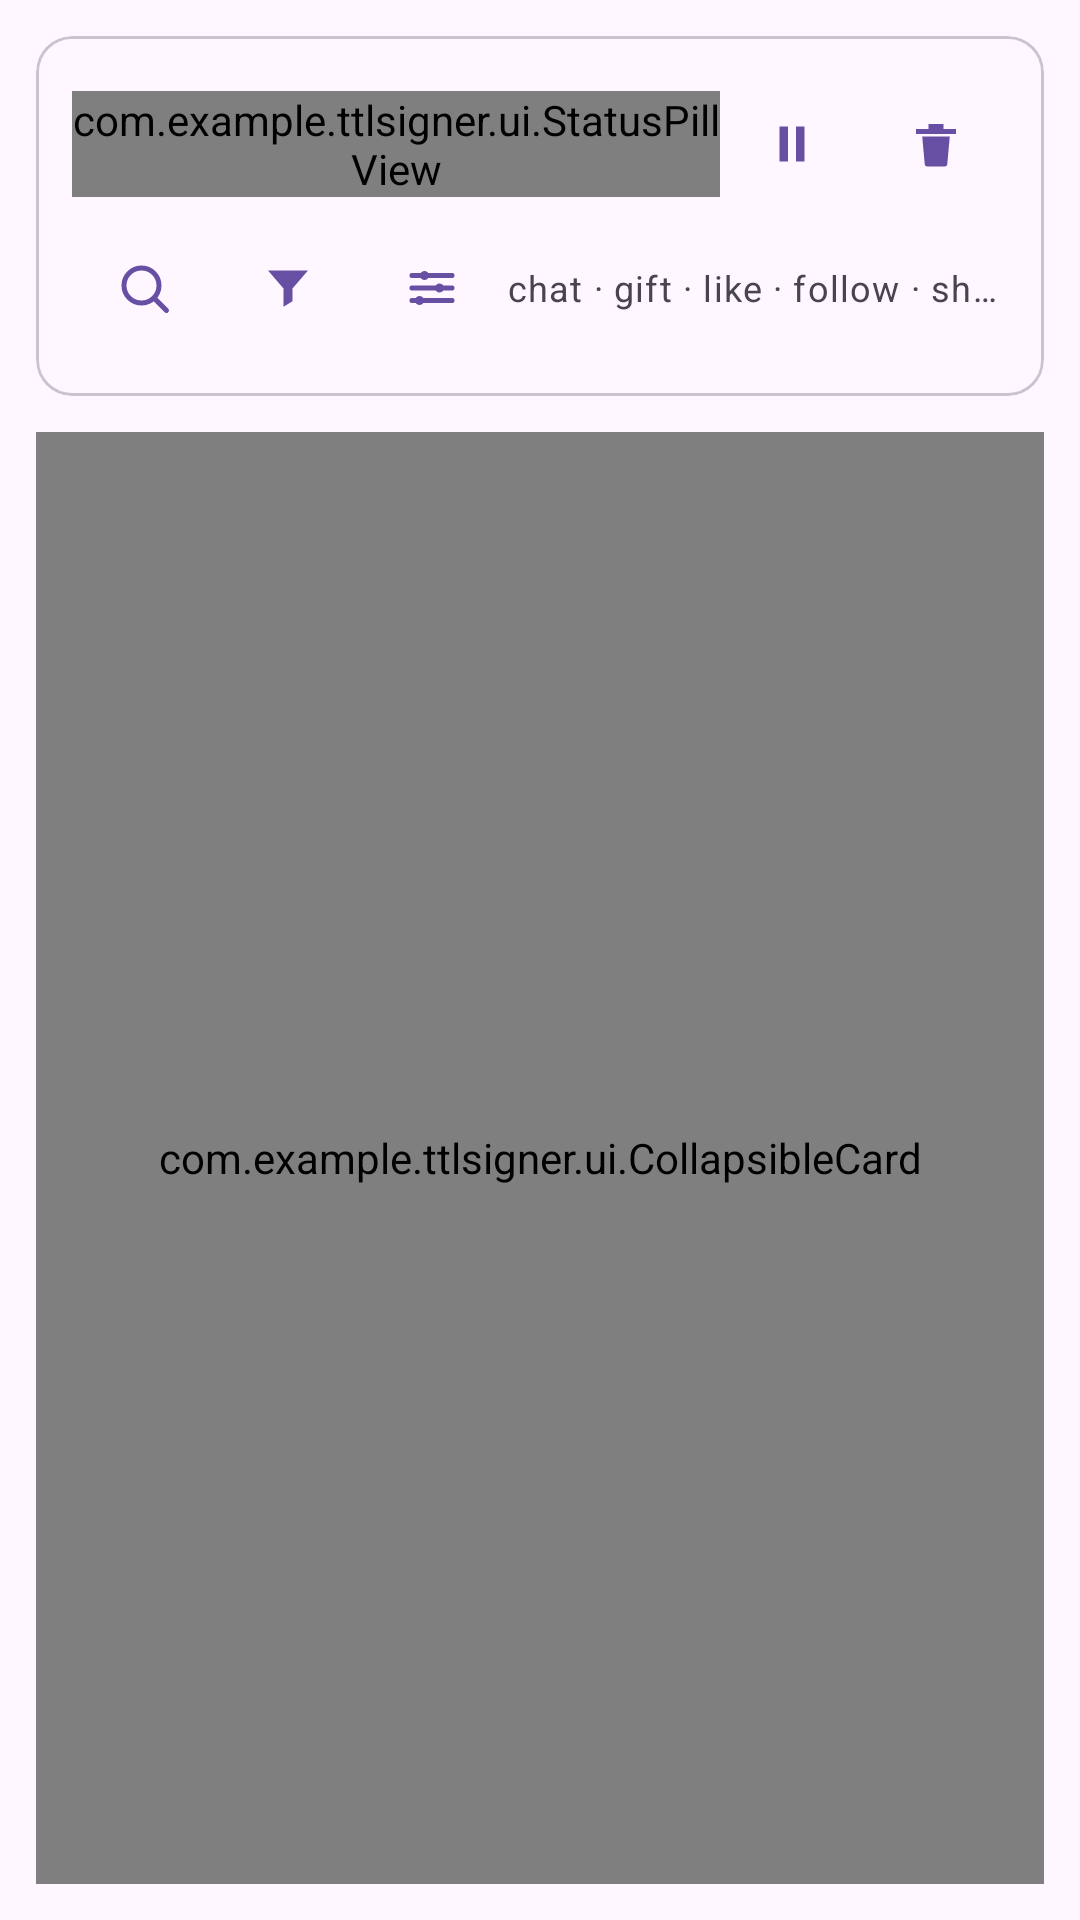

Where icons sit on this 1080x1920 app screen, as (x1,y1,x2,y2):
delete: (916,124,956,167)
filter: (268,270,308,307)
pause: (779,126,805,162)
search: (121,265,169,313)
tune: (409,271,455,305)
